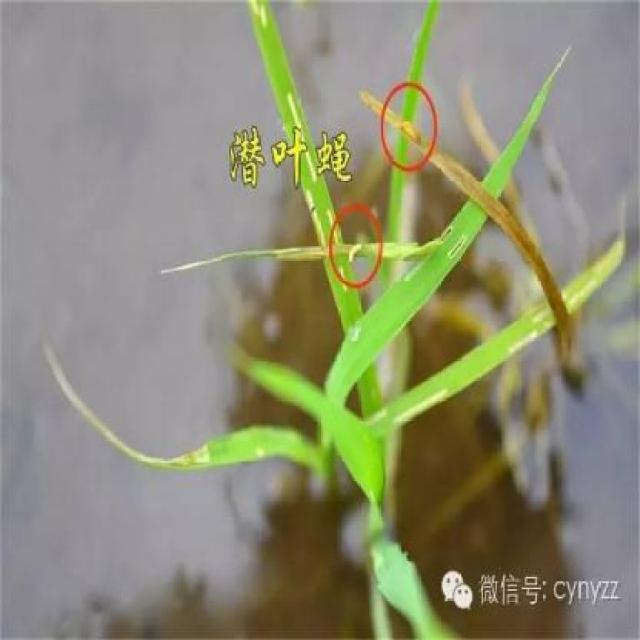whorl-maggot: (345, 237, 366, 274)
